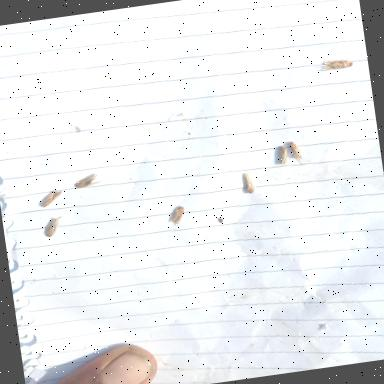pbw: (72, 170, 105, 190), (40, 214, 66, 238), (38, 186, 64, 208), (166, 204, 188, 226), (288, 138, 306, 164), (242, 170, 256, 194), (278, 144, 290, 166)
